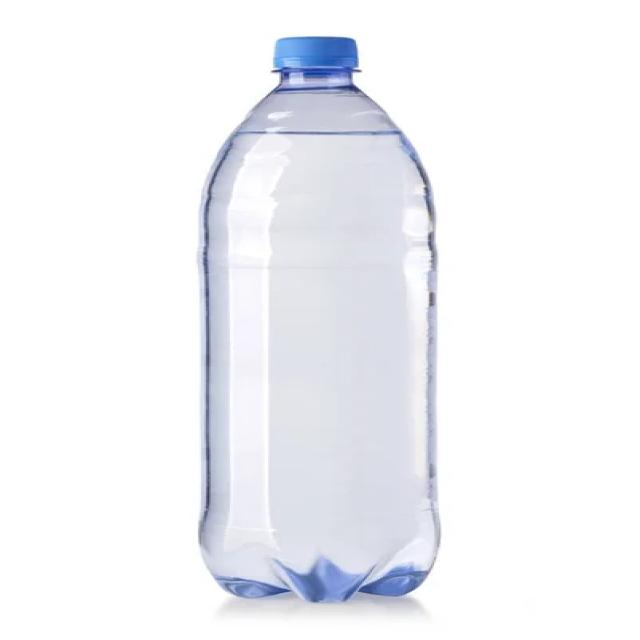bottle: (190, 31, 453, 608)
